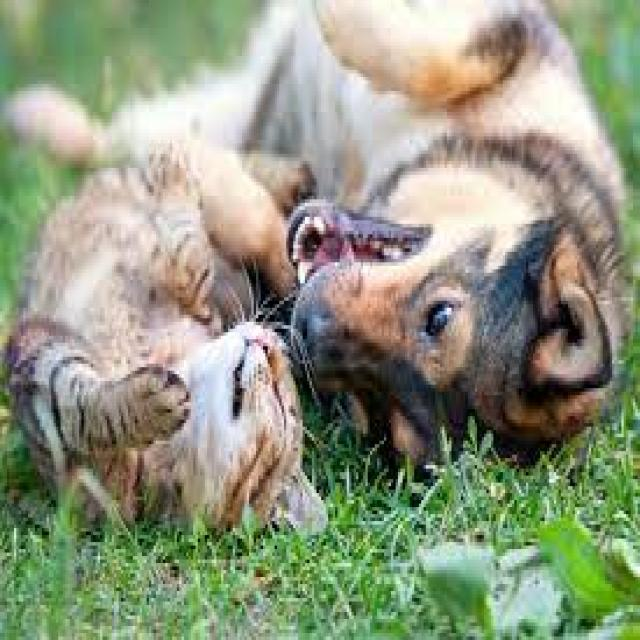cat: (4, 125, 303, 541)
dog: (282, 0, 632, 478)
